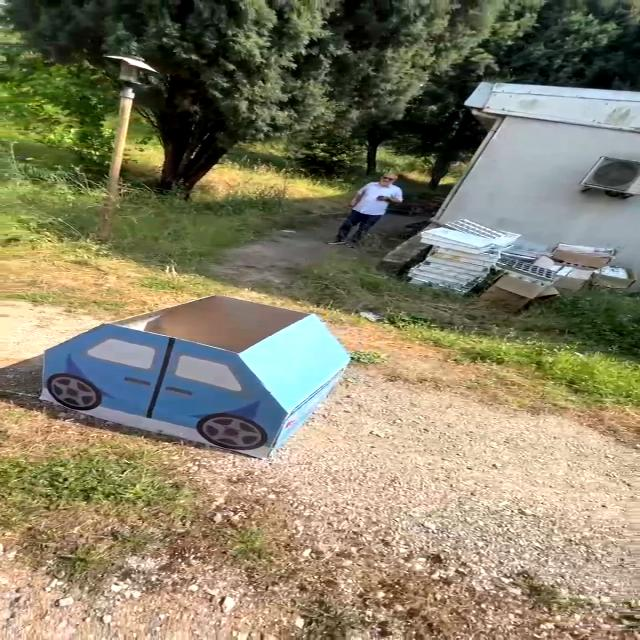blue_car: (13, 277, 377, 471)
